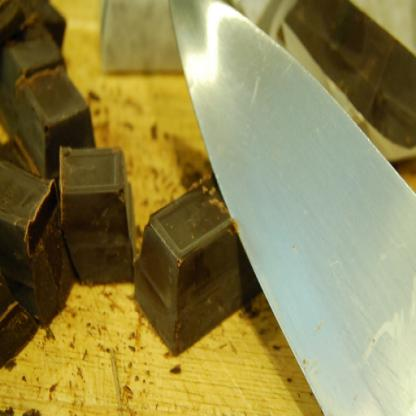knife: (166, 0, 415, 415)
